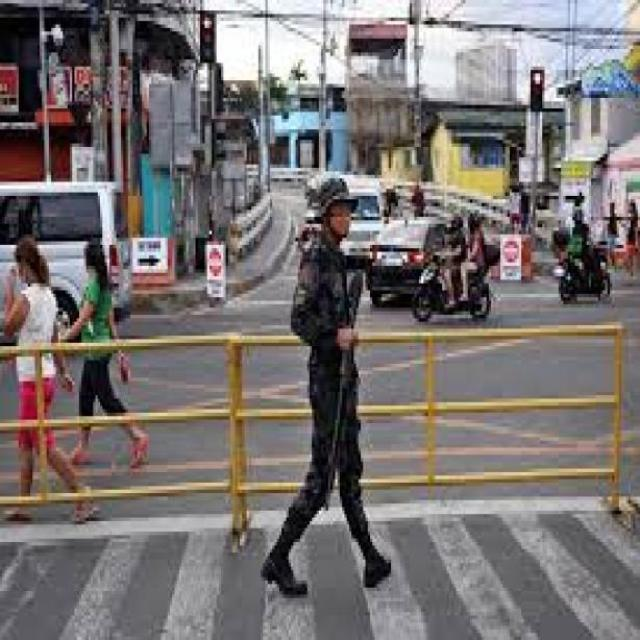pedestrian lane: (0, 498, 639, 640)
